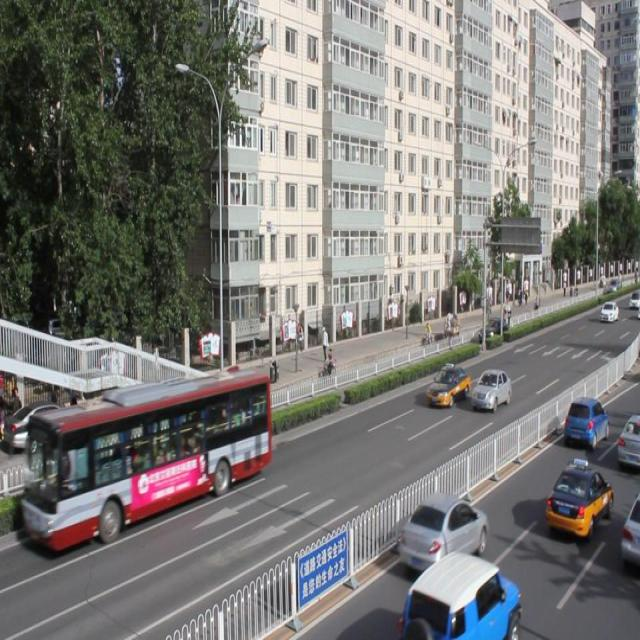car: (400, 550, 519, 640), (398, 489, 487, 575), (544, 460, 611, 537), (563, 393, 608, 446), (425, 362, 470, 407), (470, 366, 510, 409), (620, 496, 640, 566), (615, 412, 640, 466), (477, 315, 507, 343)
van: (26, 375, 269, 552)
